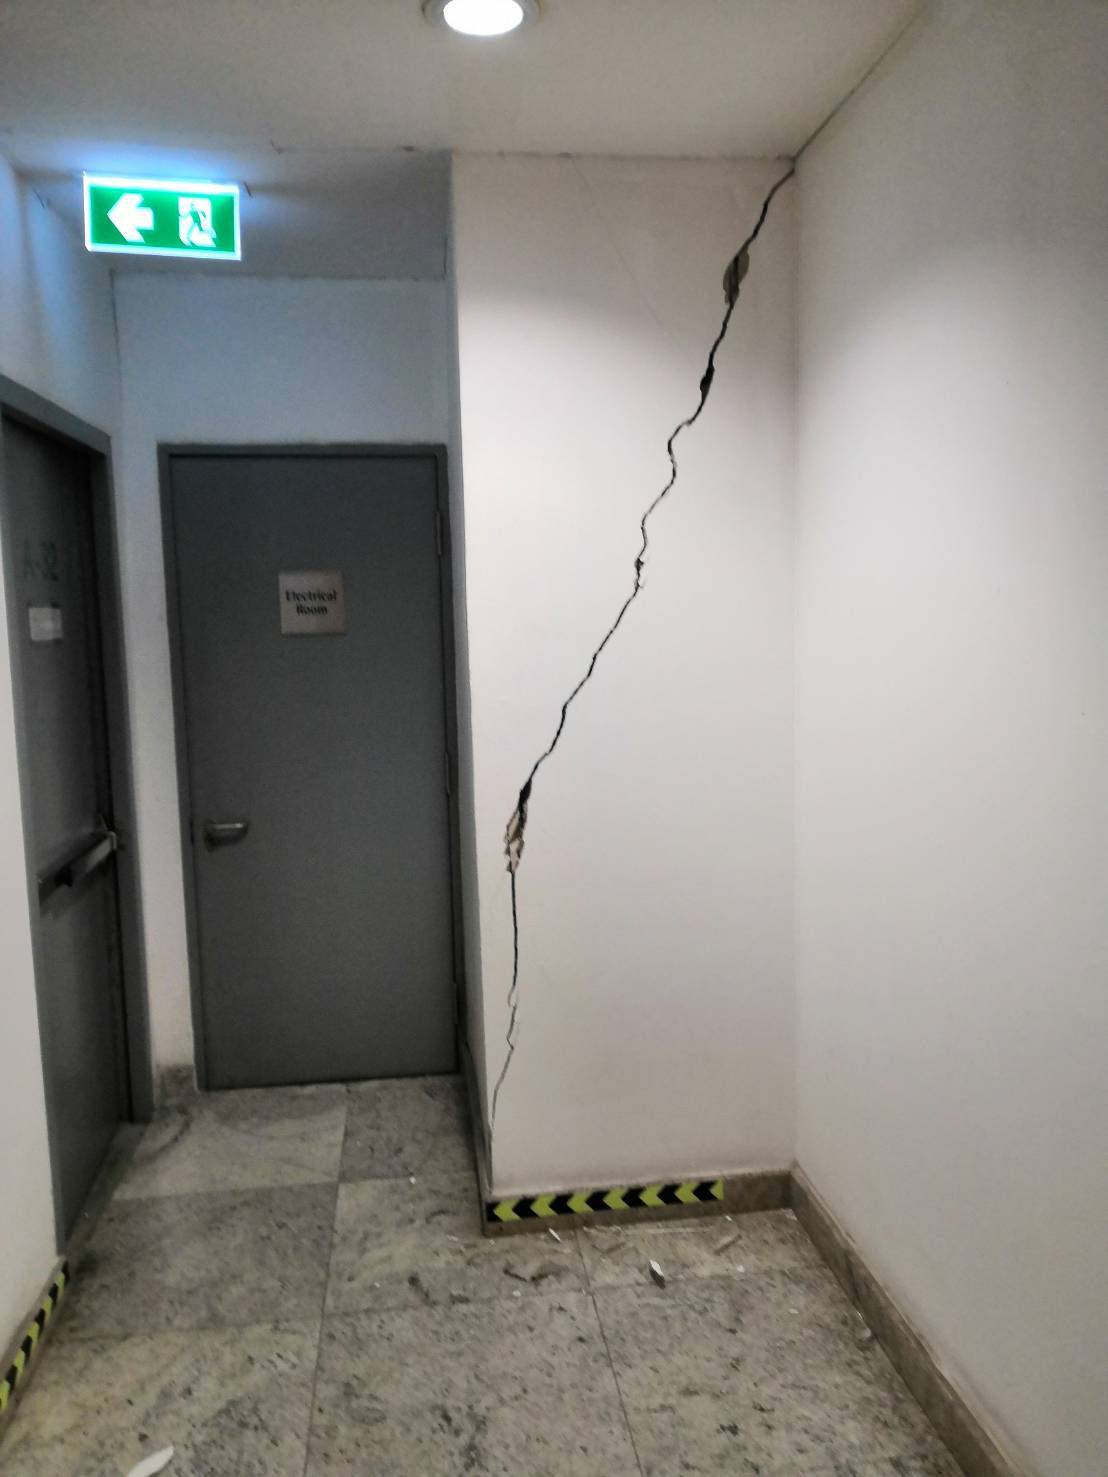Medium: (493, 199, 767, 968)
